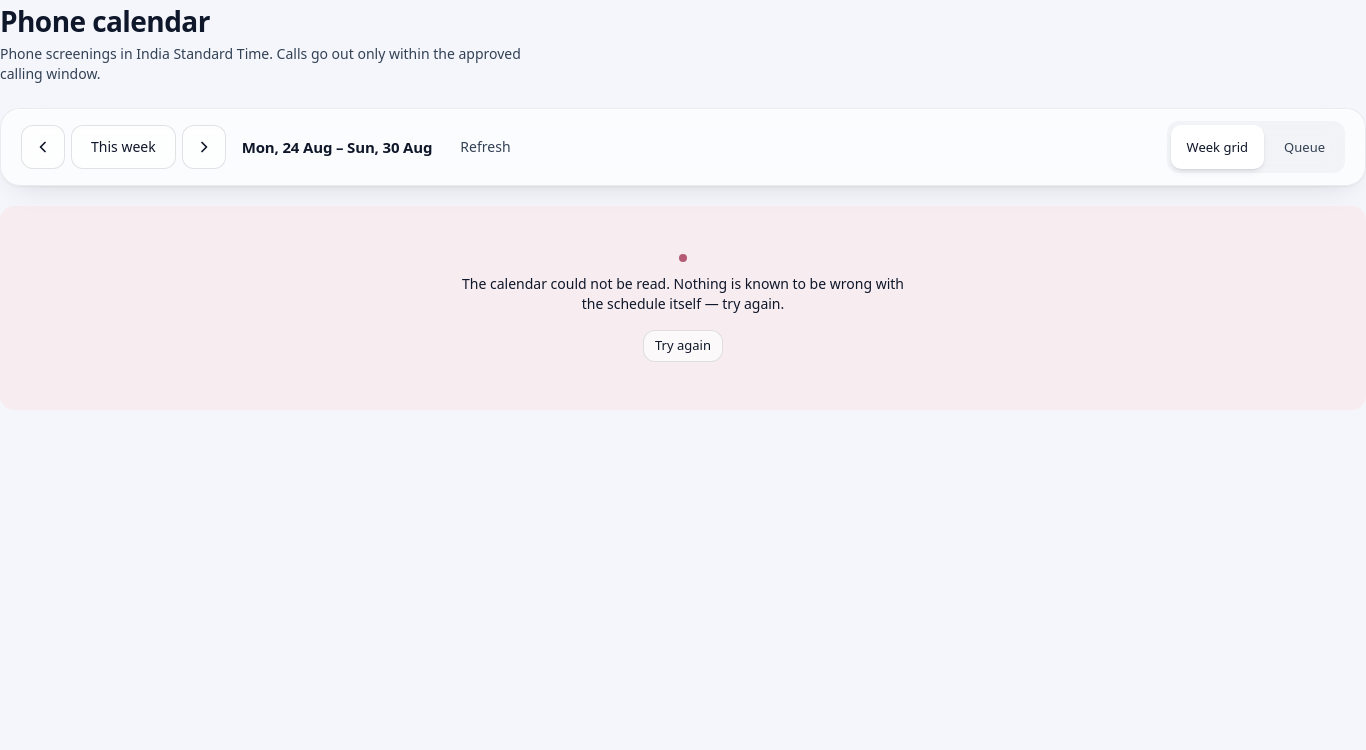
states › shows an error with a retry that re-reads
Expected: the text "could not be read" is shown, [462,274,904,313]
Click the button "Try again". click: point(683, 346)
box: [643,330,723,362]
(page scrolled)
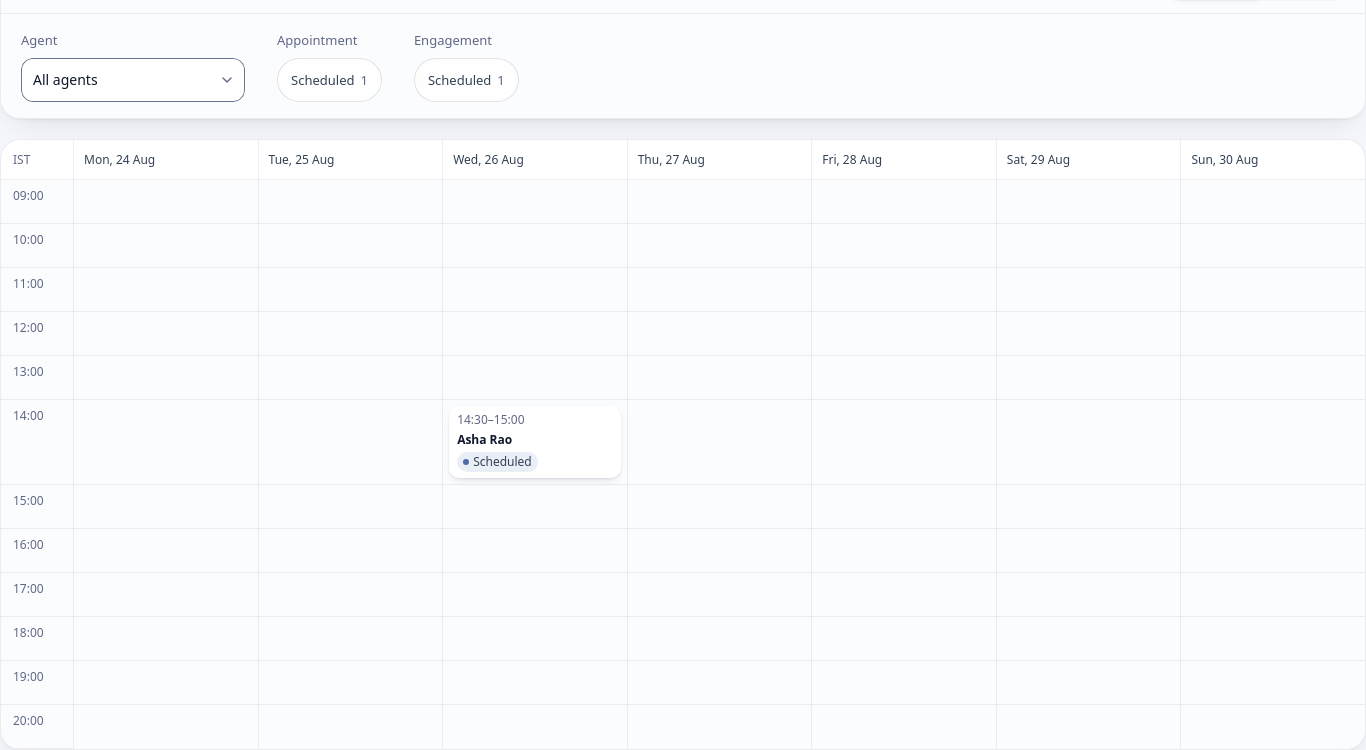
Now the table is shown
